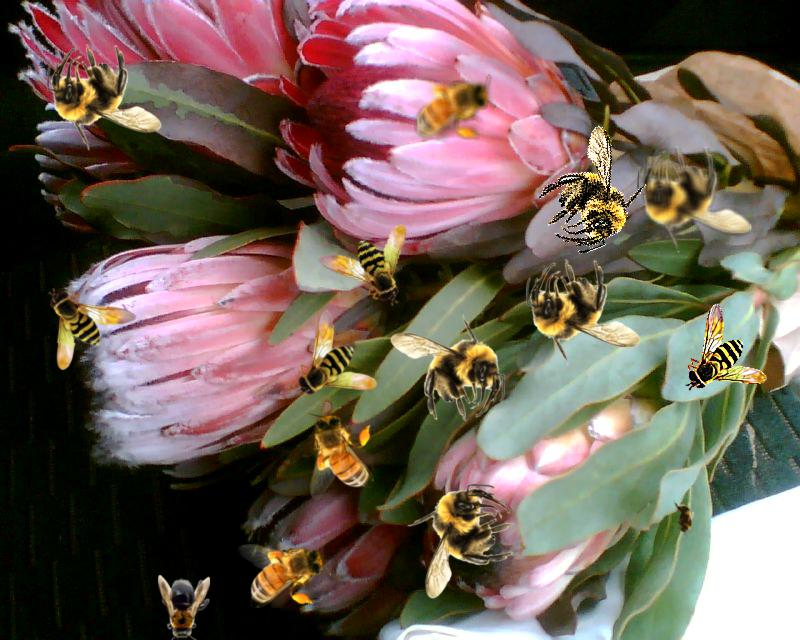Bee: (520, 116, 663, 263), (47, 44, 162, 151), (407, 484, 514, 599), (390, 314, 505, 421), (526, 259, 641, 366), (637, 146, 752, 253), (311, 208, 415, 308), (47, 285, 139, 371), (685, 303, 767, 391), (295, 309, 377, 397), (403, 74, 496, 142), (238, 540, 331, 608), (306, 407, 374, 500), (158, 575, 210, 640), (673, 499, 695, 539)
